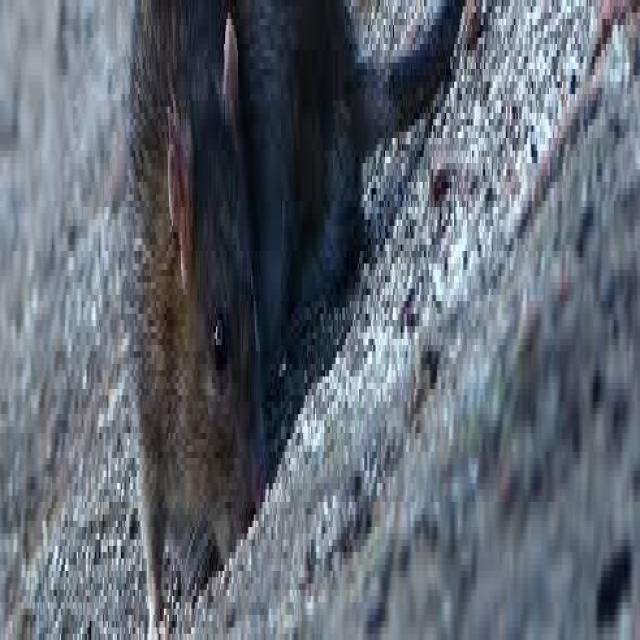Rat: (146, 0, 463, 406)
